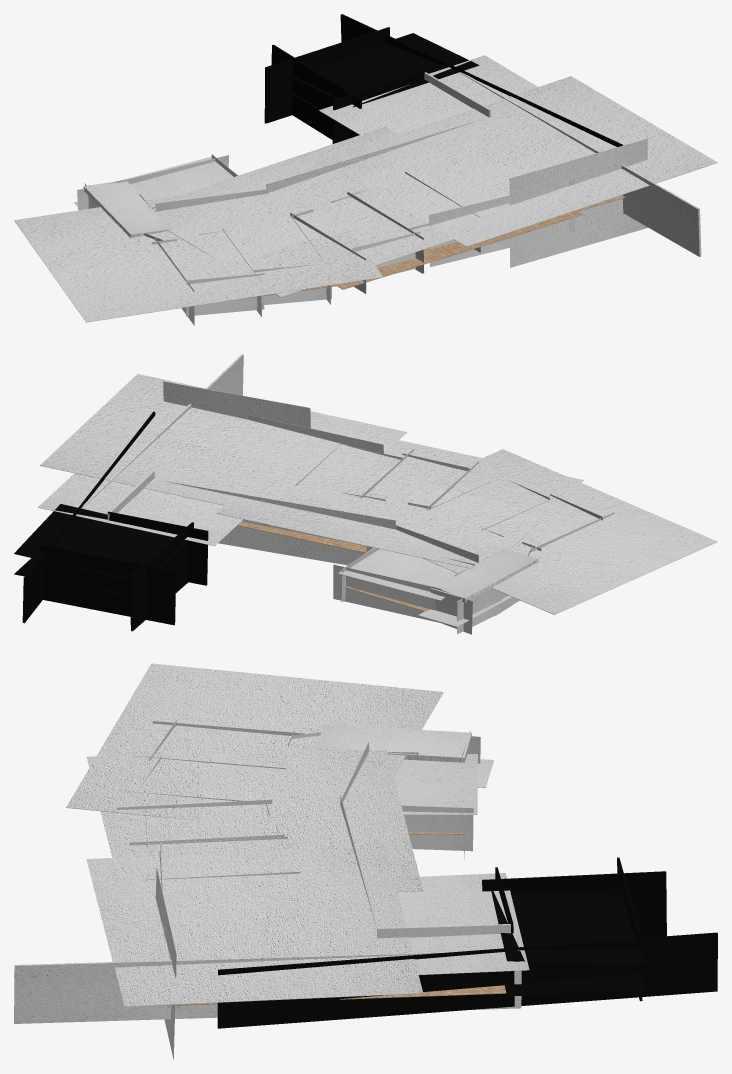
File: mapafaces3.fbx
3 views of the same model, one above another, from view 1: azimuth 30°, elevation 25°; view 2: azimuth 150°, elevation 25°; view 3: azimuth 270°, elevation 25° (orthographic). The views are drawn at different scales.
Visible parts, largest first — view 1: plK.040, plK.007, plK.020, plK.042, plK.049, plK.055, plK.043, plK.053, plK.054, plK.283, plK.291, plK.051 (+11 smaller); view 2: plK.040, plK.007, plK.020, plK.053, plK.049, plK.055, plK.034, plK.042, plK.291, plK.003, plK.283, plK.054 (+9 smaller); view 3: plK.040, plK.007, plK.020, plK.051, plK.043, plK.049, plK.055, plK.054, plK.283, plK.291, plK.006, plK.050 (+5 smaller).
Boxes of the visible parts, bbox=[...] form: plK.040: bbox=[320, 76, 717, 246]; plK.007: bbox=[14, 195, 382, 322]; plK.020: bbox=[145, 126, 453, 297]; plK.042: bbox=[509, 138, 647, 267]; plK.049: bbox=[319, 55, 537, 134]; plK.055: bbox=[290, 33, 479, 107]; plK.043: bbox=[459, 72, 701, 256]; plK.053: bbox=[264, 27, 389, 123]; plK.054: bbox=[271, 44, 361, 139]; plK.283: bbox=[83, 181, 172, 238]; plK.291: bbox=[125, 156, 238, 199]; plK.051: bbox=[340, 14, 622, 146]; plK.040: bbox=[40, 374, 406, 523]; plK.007: bbox=[423, 449, 717, 614]; plK.020: bbox=[216, 440, 583, 568]; plK.053: bbox=[40, 544, 176, 625]; plK.049: bbox=[38, 473, 242, 546]; plK.055: bbox=[14, 504, 187, 584]; plK.034: bbox=[160, 480, 395, 565]; plK.042: bbox=[163, 381, 310, 428]; plK.291: bbox=[338, 547, 456, 600]; plK.003: bbox=[333, 564, 441, 622]; plK.283: bbox=[430, 549, 538, 602]; plK.054: bbox=[130, 522, 193, 631]; plK.040: bbox=[86, 845, 422, 1006]; plK.007: bbox=[66, 663, 443, 820]; plK.020: bbox=[86, 746, 423, 892]; plK.051: bbox=[217, 932, 717, 1028]; plK.043: bbox=[14, 950, 521, 1023]; plK.049: bbox=[397, 873, 529, 974]; plK.055: bbox=[491, 891, 645, 965]; plK.054: bbox=[482, 871, 666, 937]; plK.283: bbox=[316, 724, 471, 762]; plK.291: bbox=[394, 754, 477, 814]; plK.006: bbox=[401, 805, 473, 851]; plK.050: bbox=[505, 974, 645, 996].
Size of the model in its own units: 2400 by 332 by 1967.
74 materials, 57 textured.
